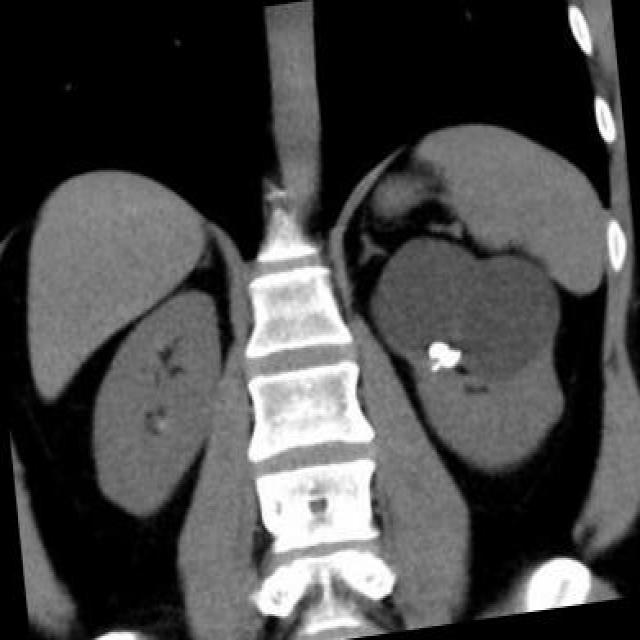Tas_Var: (427, 337, 462, 373), (430, 360, 442, 372)
